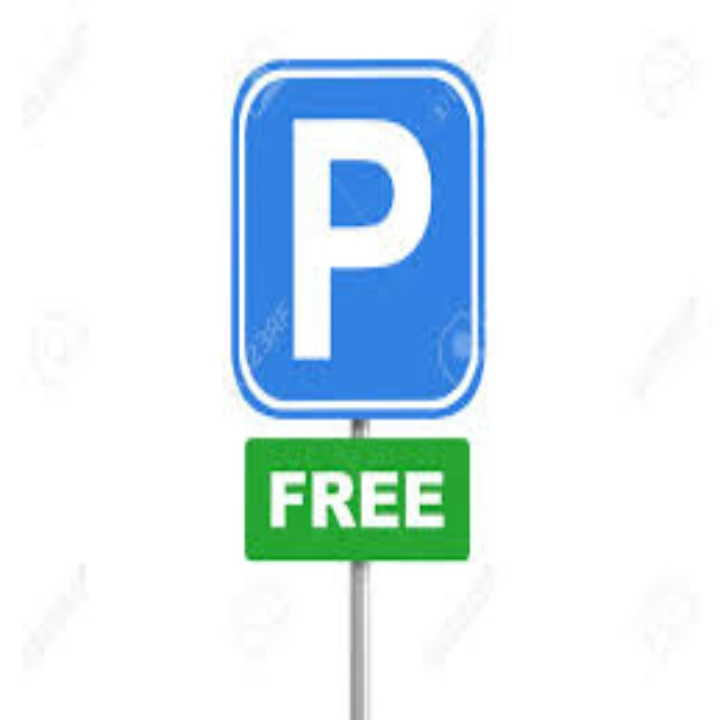parking: (285, 107, 439, 367)
